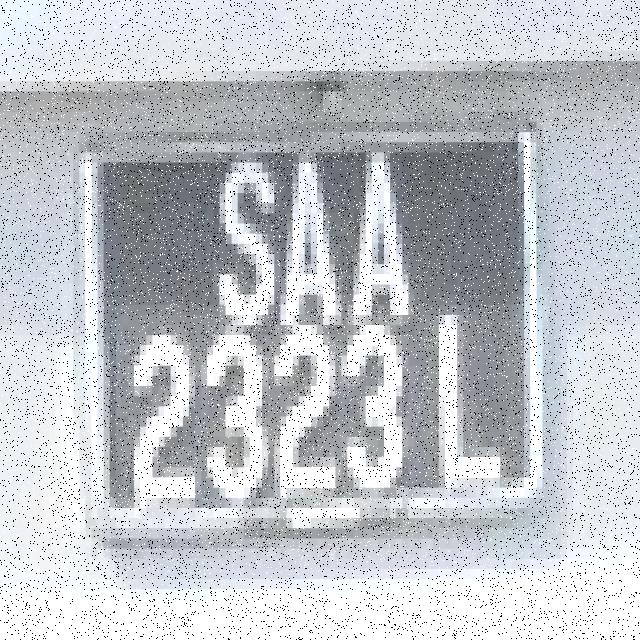licenseplate: (78, 122, 552, 546)
